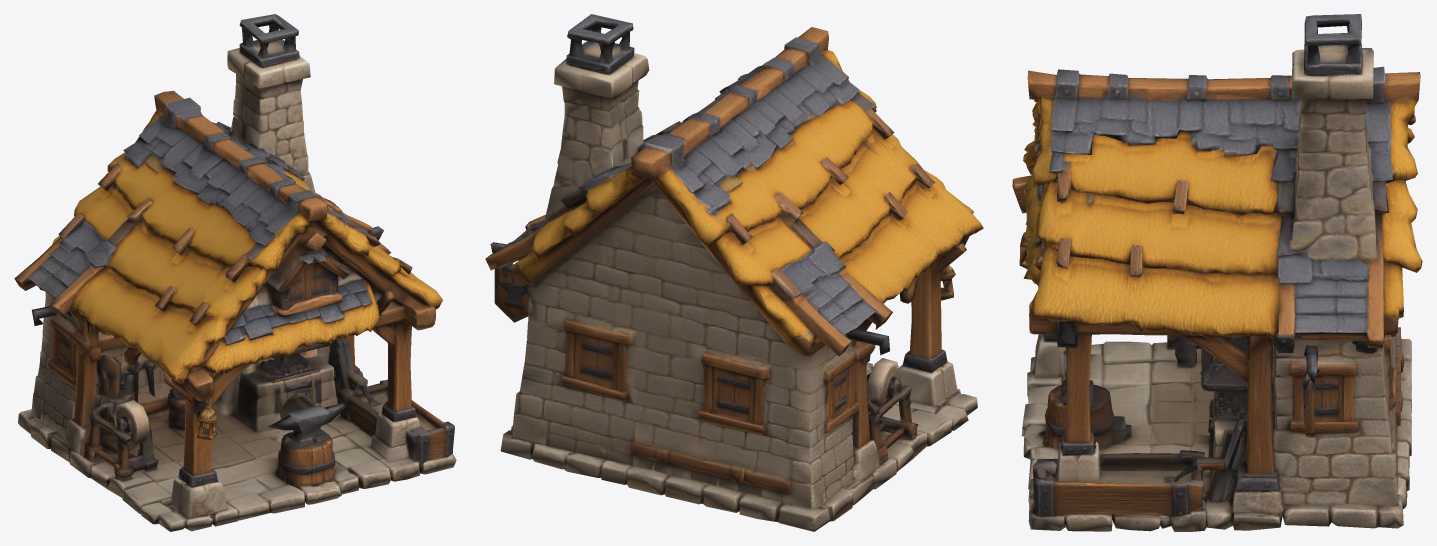
Rendered from smithy.glb.
3 renders of one model, left to right at view 1: azimuth 30°, elevation 25°; view 2: azimuth 150°, elevation 25°; view 3: azimuth 270°, elevation 25°, orthographic. The views are drawn at different scales.
Visible parts, largest first — view 1: tripo_node_e75d758b-b0ac-43bf-a8bb-3689a6f12afa; view 2: tripo_node_e75d758b-b0ac-43bf-a8bb-3689a6f12afa; view 3: tripo_node_e75d758b-b0ac-43bf-a8bb-3689a6f12afa.
Part boxes in pixels (bbox=[...]): tripo_node_e75d758b-b0ac-43bf-a8bb-3689a6f12afa: bbox=[14, 14, 456, 531]; tripo_node_e75d758b-b0ac-43bf-a8bb-3689a6f12afa: bbox=[485, 14, 983, 531]; tripo_node_e75d758b-b0ac-43bf-a8bb-3689a6f12afa: bbox=[1012, 14, 1422, 531].
Size of the model in its own units: 0.9653 by 0.9794 by 0.7811.
1 material, 1 textured.
